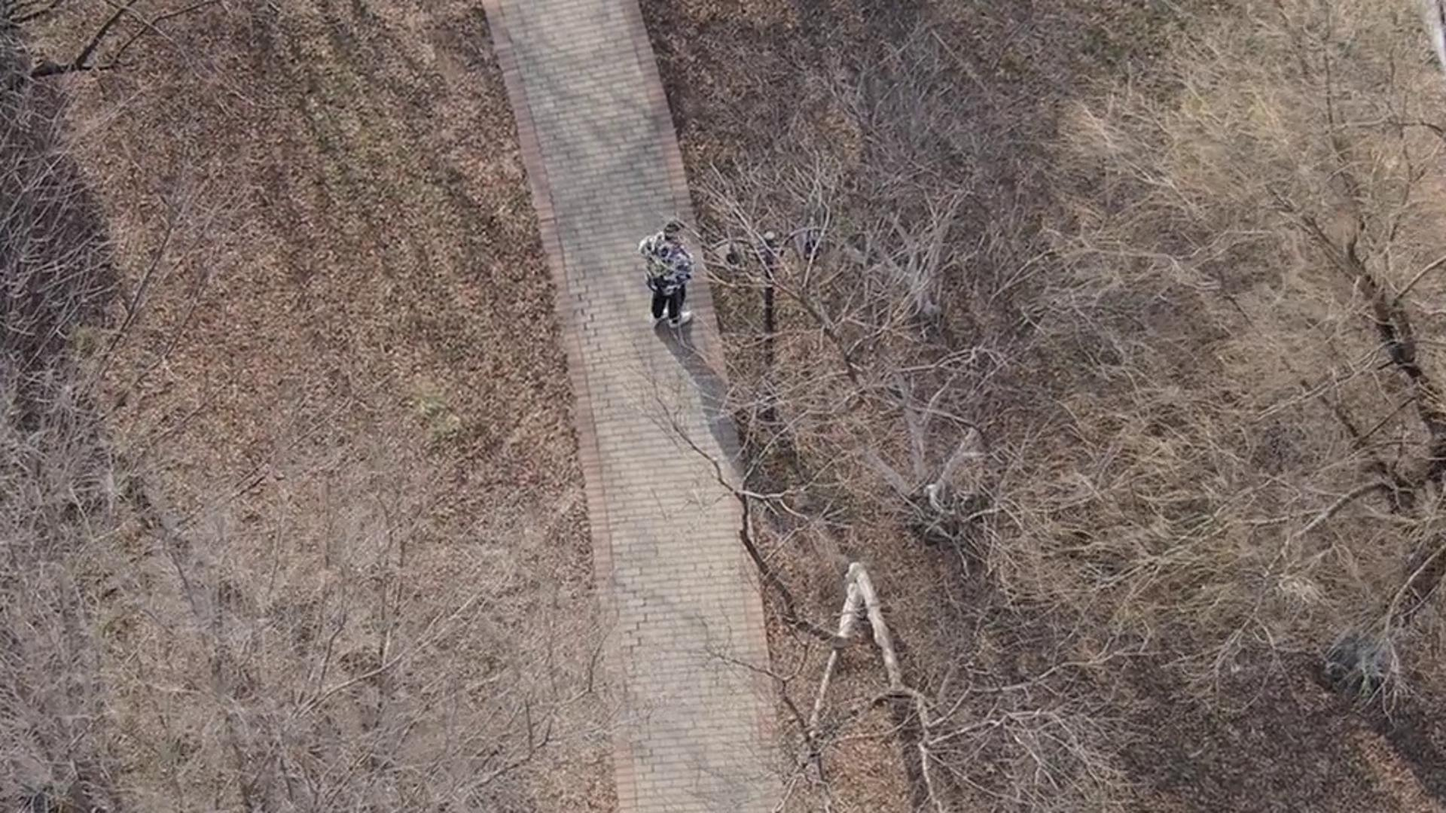human: (612, 221, 669, 336)
